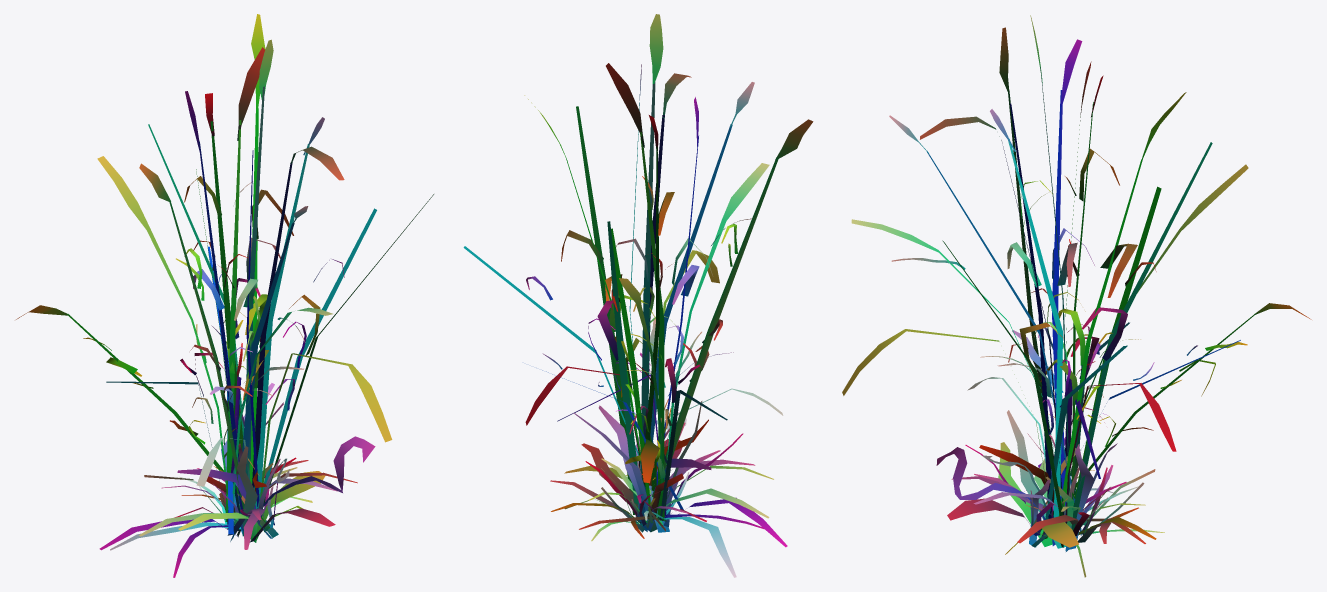
The model's file is Wheat_Grass_tdcrdbur_Low_tdcrdbur_VarA_LOD1.fbx.
The picture shows the model from 3 angles, left to right: view 1: azimuth 30°, elevation 25°; view 2: azimuth 150°, elevation 25°; view 3: azimuth 270°, elevation 25°; orthographic projection. The views are drawn at different scales.
Parts seen in each view (by area): view 1: _abc8_VarA_LOD2; view 2: _abc8_VarA_LOD2; view 3: _abc8_VarA_LOD2.
Boxes of the visible parts, left/top/right/bottom form: _abc8_VarA_LOD2: left=16, top=14, right=433, bottom=577; _abc8_VarA_LOD2: left=463, top=14, right=813, bottom=577; _abc8_VarA_LOD2: left=842, top=15, right=1311, bottom=577.
Size of the model in its own units: 81.71 by 132 by 104.
